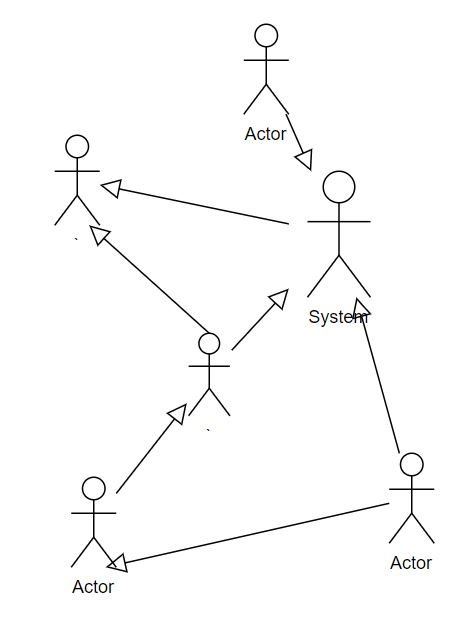actor: (310, 171, 371, 298), (240, 23, 289, 116), (54, 132, 101, 226), (387, 453, 435, 545), (66, 477, 115, 567), (187, 332, 229, 415)
generalization: (108, 501, 389, 572), (87, 225, 211, 334), (100, 178, 289, 225), (353, 296, 400, 453), (233, 286, 290, 350)
text: (301, 302, 371, 330), (384, 554, 436, 573), (71, 576, 115, 596), (242, 123, 287, 142)
